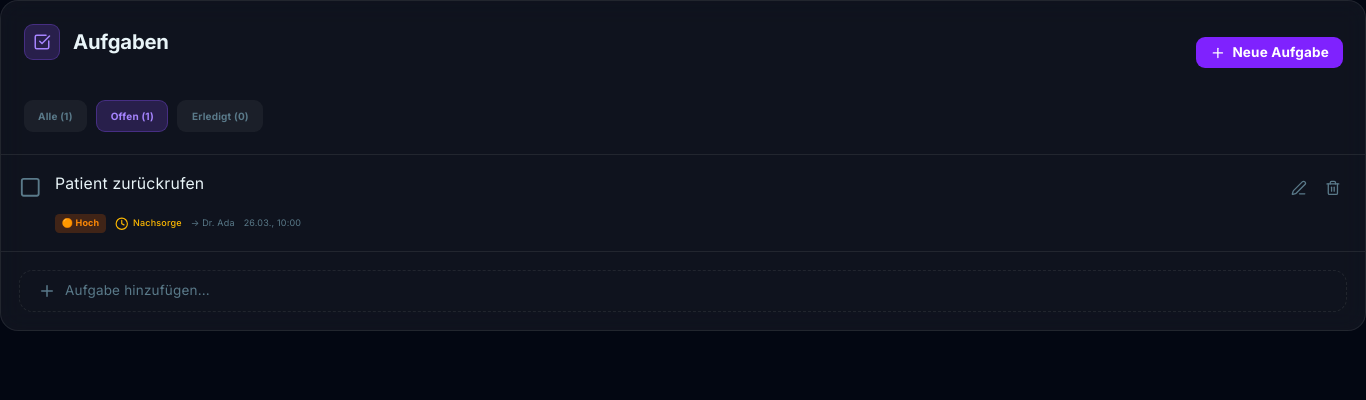
it: StaffTodoList › keeps the todo visible when delete fails
Expected: the text "Patient zurückrufen" is shown, top-left (55, 174), bottom-right (204, 193)
Step 1. Click the button titled "Löschen" → (1332, 188), box top-left (1318, 173), bottom-right (1347, 203)
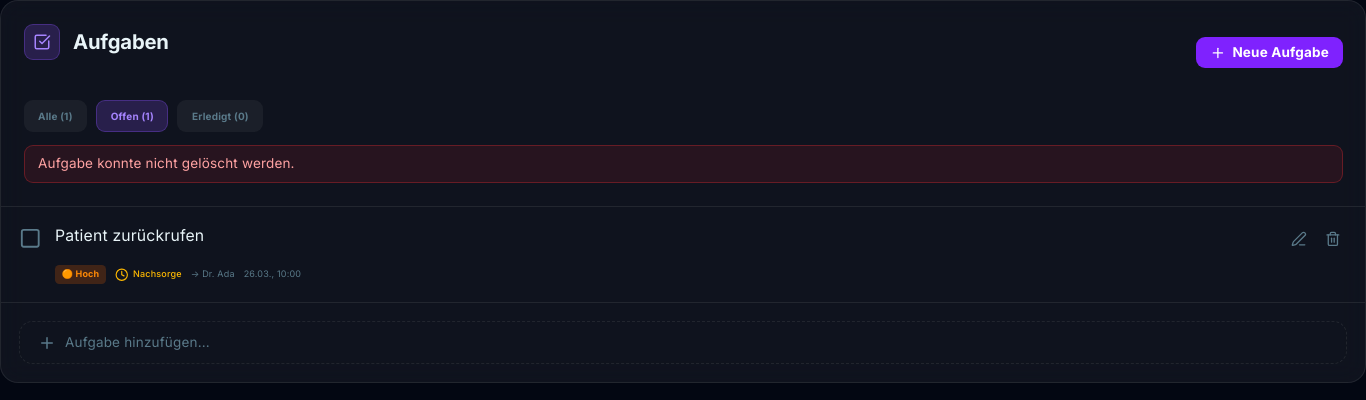
Expected: the text "Patient zurückrufen" is shown, top-left (55, 226), bottom-right (204, 245)
Expected: the text "Aufgabe konnte nicht gelöscht werden." is shown, top-left (24, 145), bottom-right (1342, 183)
